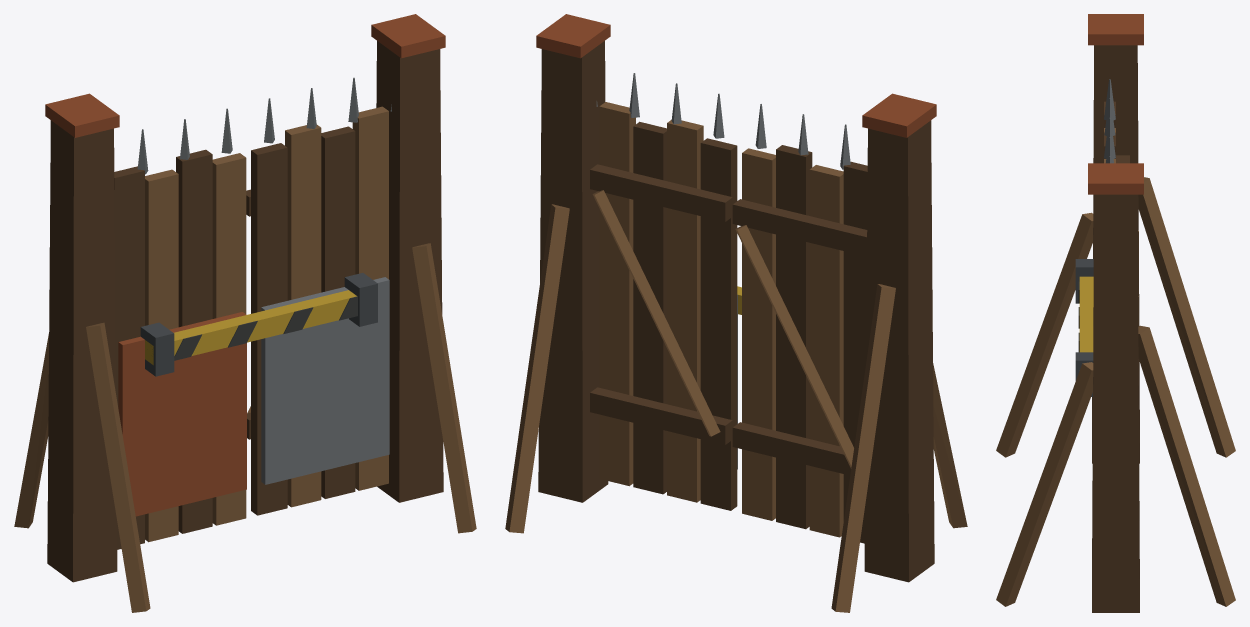
File: perimeter_barricade_gate.glb
3 views of the same model, side by side, from view 1: azimuth 30°, elevation 25°; view 2: azimuth 150°, elevation 25°; view 3: azimuth 270°, elevation 25° (orthographic). The views are drawn at different scales.
Visible parts, largest first — view 1: perimeter_barricade_gate_mesh; view 2: perimeter_barricade_gate_mesh; view 3: perimeter_barricade_gate_mesh.
Part boxes in pixels (x1,y1,x2,y2): perimeter_barricade_gate_mesh: (14, 14, 476, 612); perimeter_barricade_gate_mesh: (505, 14, 967, 612); perimeter_barricade_gate_mesh: (996, 14, 1235, 612).
Bounding box in the file's own units: 2 × 2.36 × 1.2.
